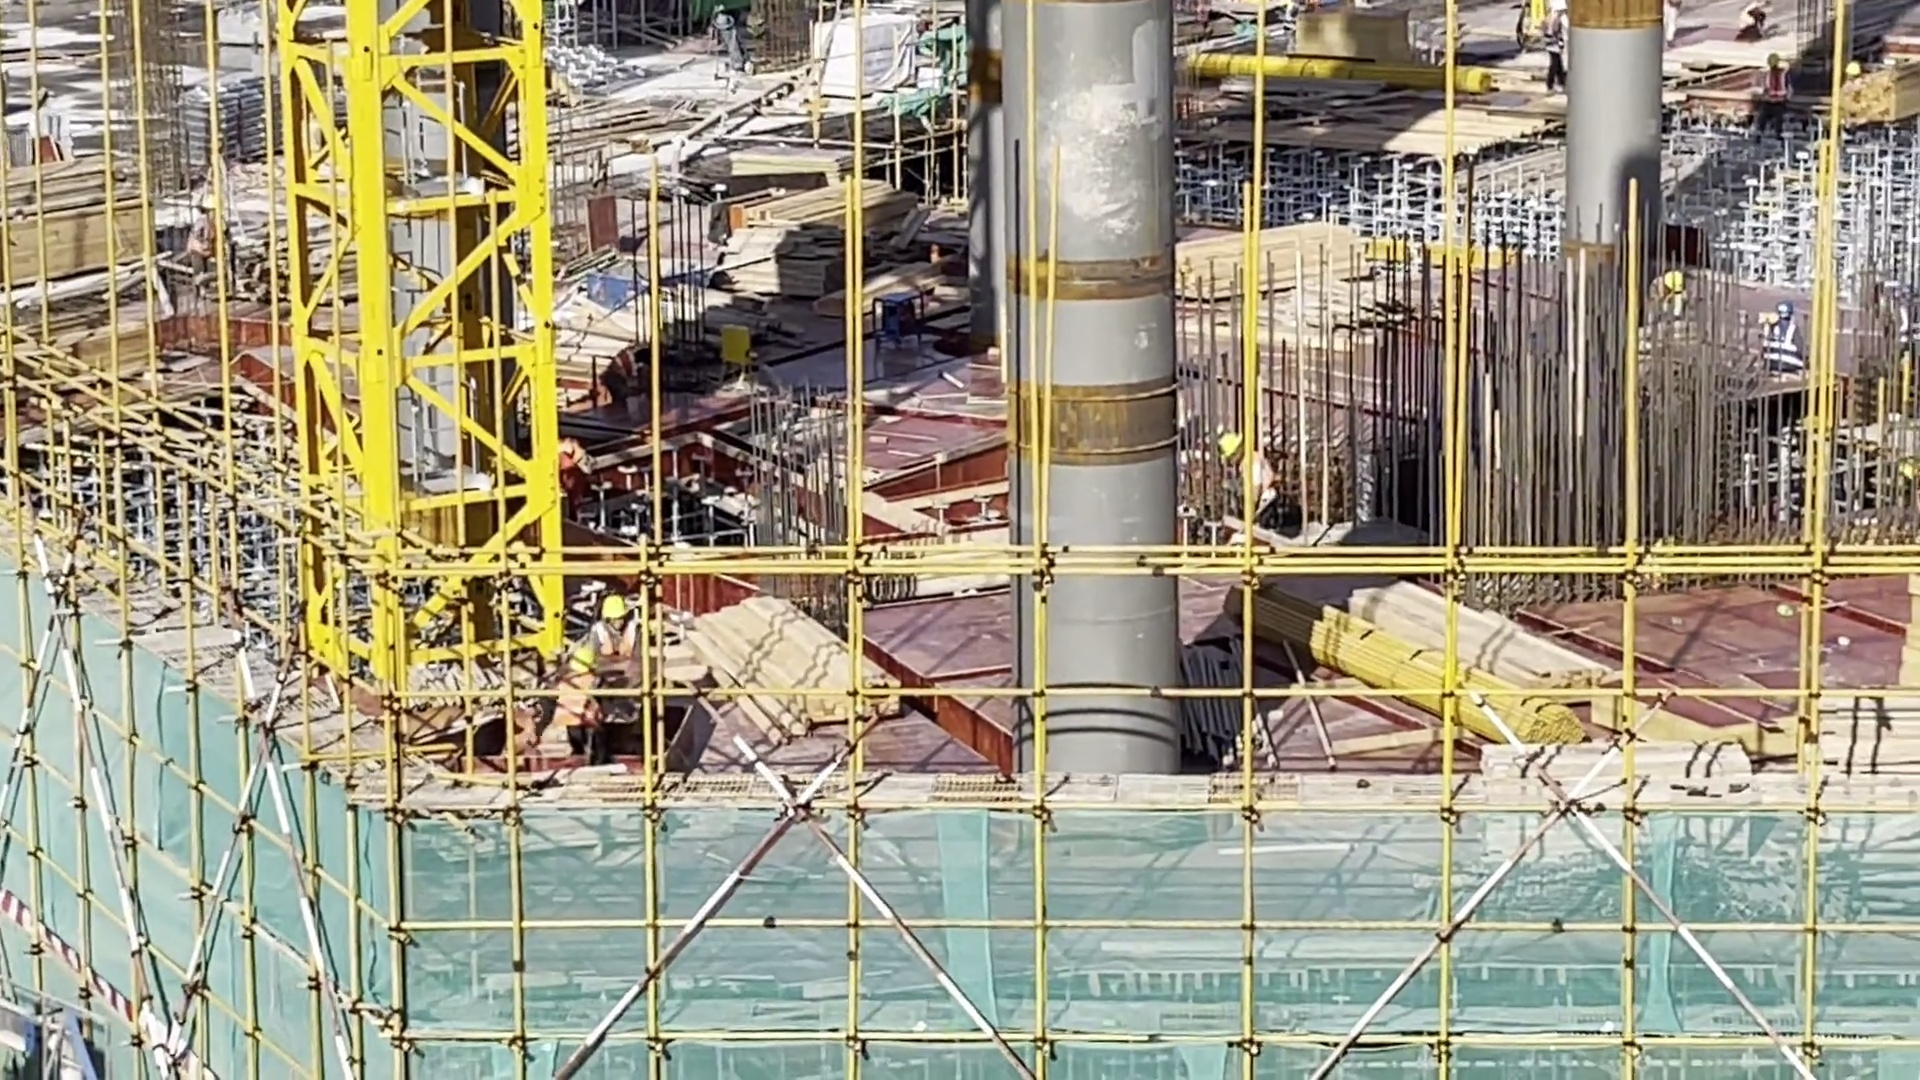helmet: (596, 589, 639, 636), (1208, 431, 1251, 465), (1664, 256, 1690, 296), (1771, 296, 1795, 324), (1765, 51, 1781, 68)
person: (581, 584, 650, 742), (1200, 430, 1292, 521), (1756, 300, 1807, 389), (1645, 255, 1689, 339), (1758, 49, 1789, 136), (1543, 12, 1570, 89), (1729, 6, 1781, 40)
vest: (1768, 322, 1796, 371), (598, 629, 633, 657), (1761, 70, 1785, 95), (1542, 26, 1565, 50)
